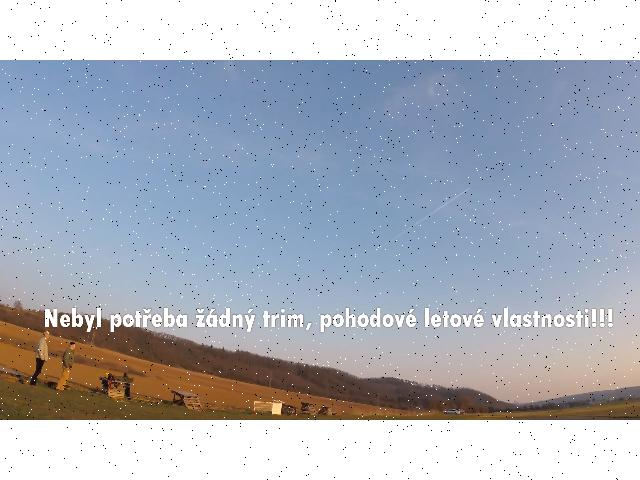Anti-Drone: (377, 268, 389, 277)
